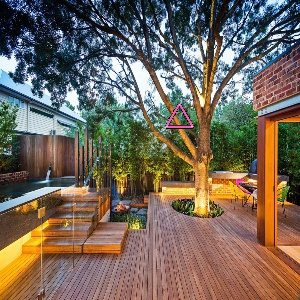triangle: (163, 102, 195, 131)
